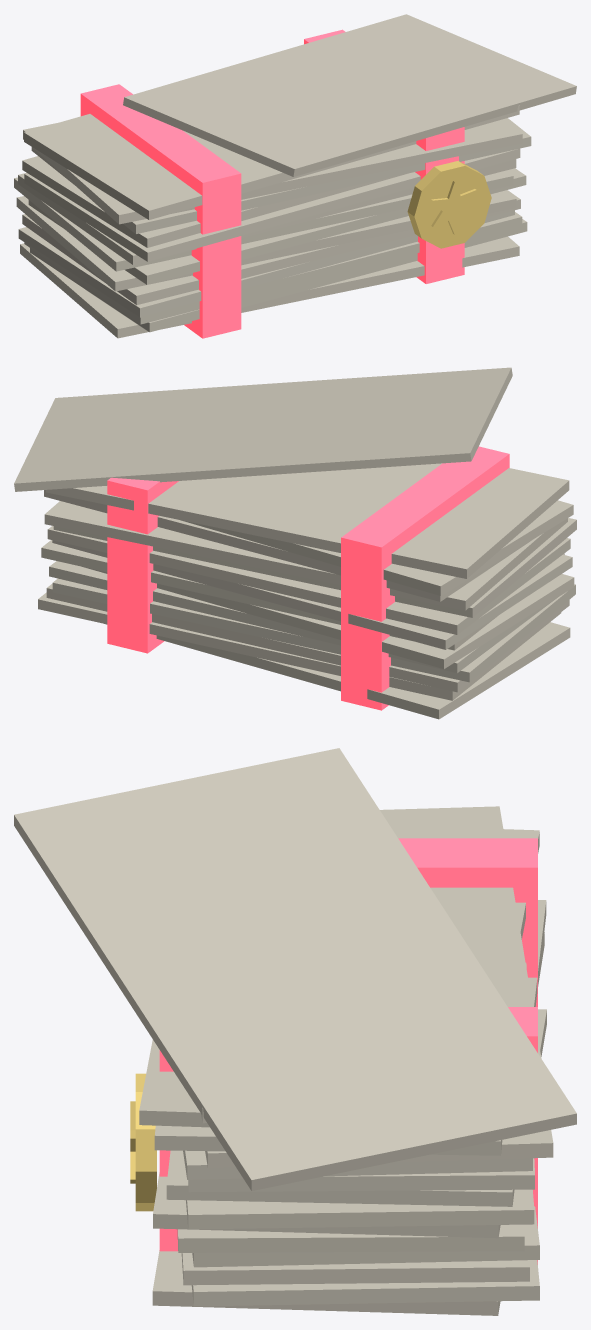
Rendered from pickups-and-collectibles-banknote-bundle-4f2a8a45__19861.glb.
3 views of the same model, one above another, from view 1: azimuth 30°, elevation 25°; view 2: azimuth 150°, elevation 25°; view 3: azimuth 270°, elevation 25° (orthographic). The views are drawn at different scales.
Visible parts, largest first — view 1: body/bone, body/ruby, body/gold; view 2: body/bone, body/ruby; view 3: body/bone, body/ruby, body/gold.
Part boxes in pixels (x1,y1,x2,y2): body/bone: (14,14,576,338); body/ruby: (80,29,464,338); body/gold: (407,161,491,248); body/bone: (14,367,576,719); body/ruby: (107,446,509,710); body/bone: (14,748,576,1315); body/ruby: (159,838,537,1264); body/gold: (130,1073,156,1211).
Bounding box in the file's own units: 0.3214 × 0.1309 × 0.2113.
